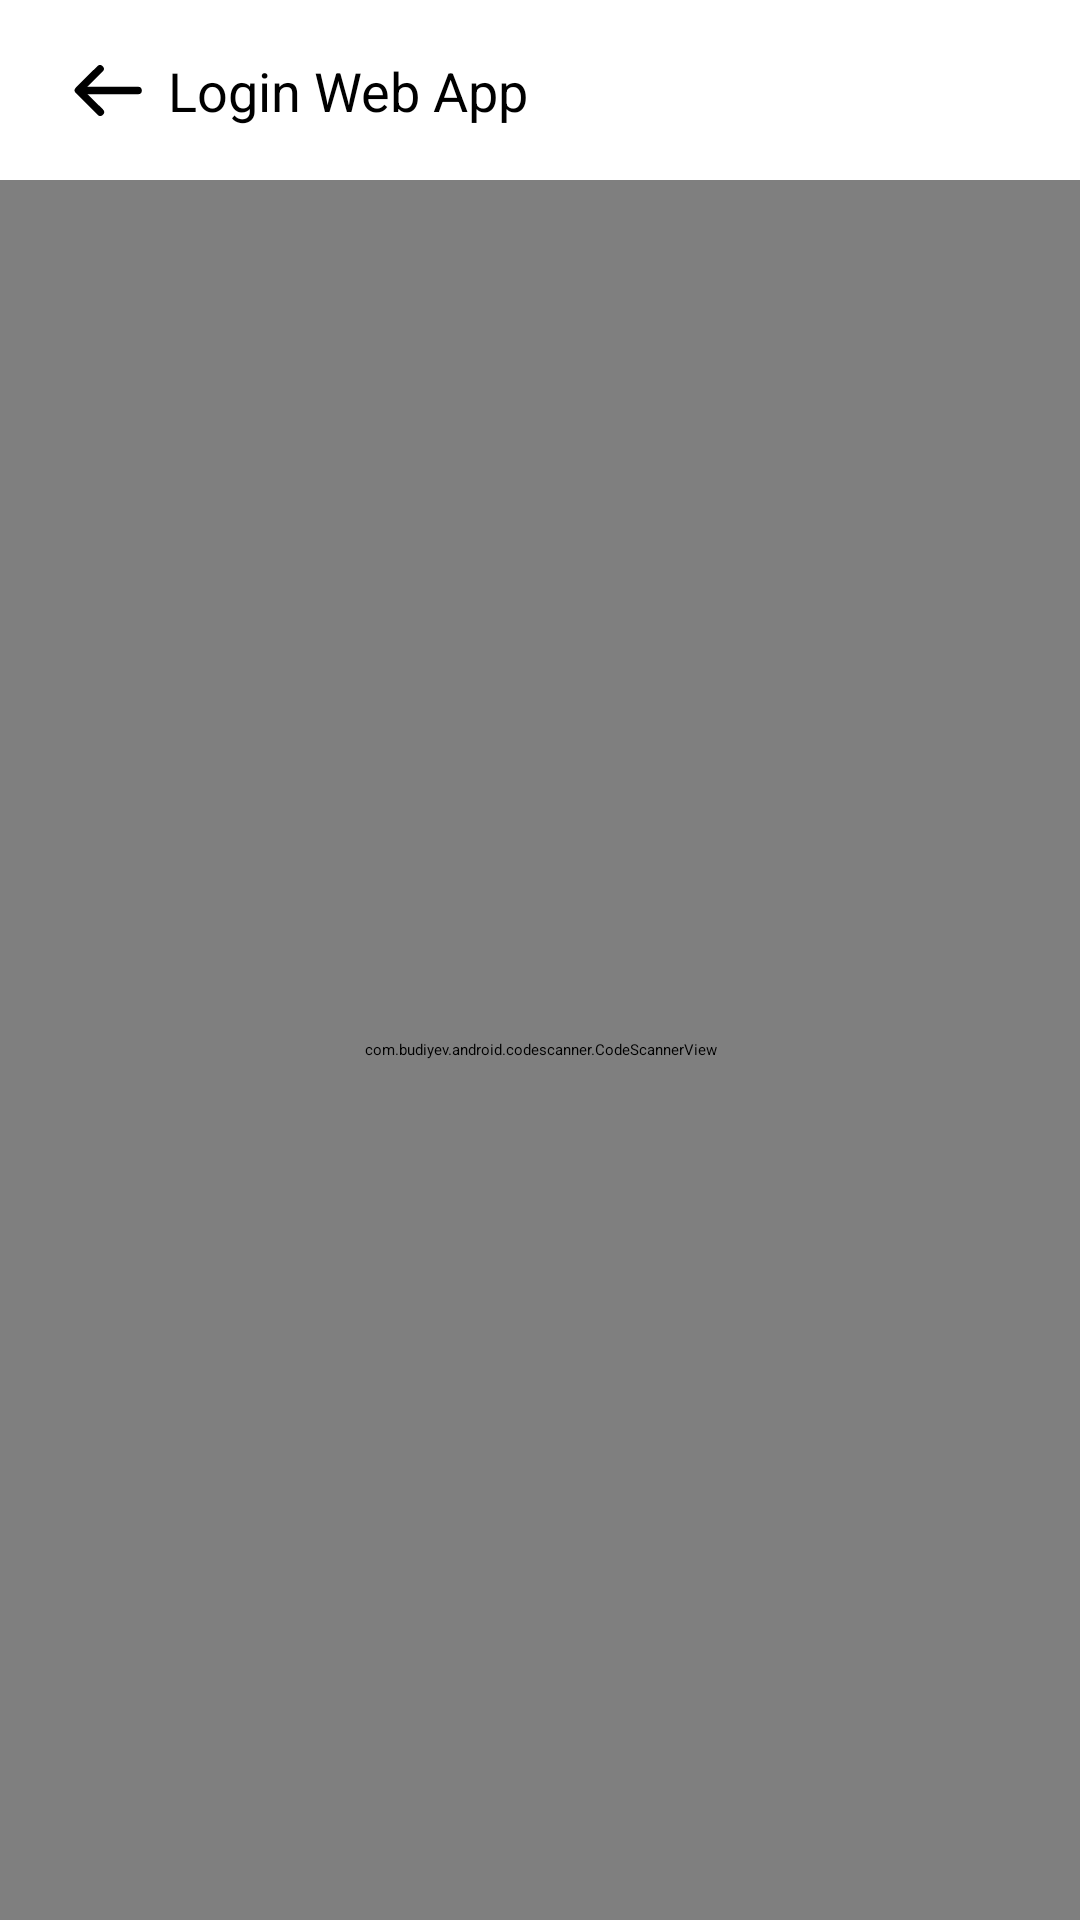

Locate icon controls on the screen. Image size 1080*1920, boxes as detection(x1, y1, x2, y2).
tombol kembali: detection(74, 65, 142, 116)
